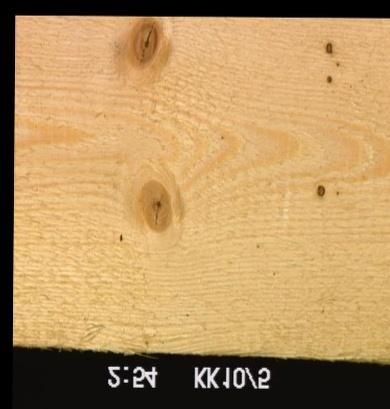dry_knot: (315, 182, 325, 196), (324, 40, 333, 53), (324, 73, 332, 83)
sound_knot: (127, 14, 161, 71), (137, 177, 172, 232)
